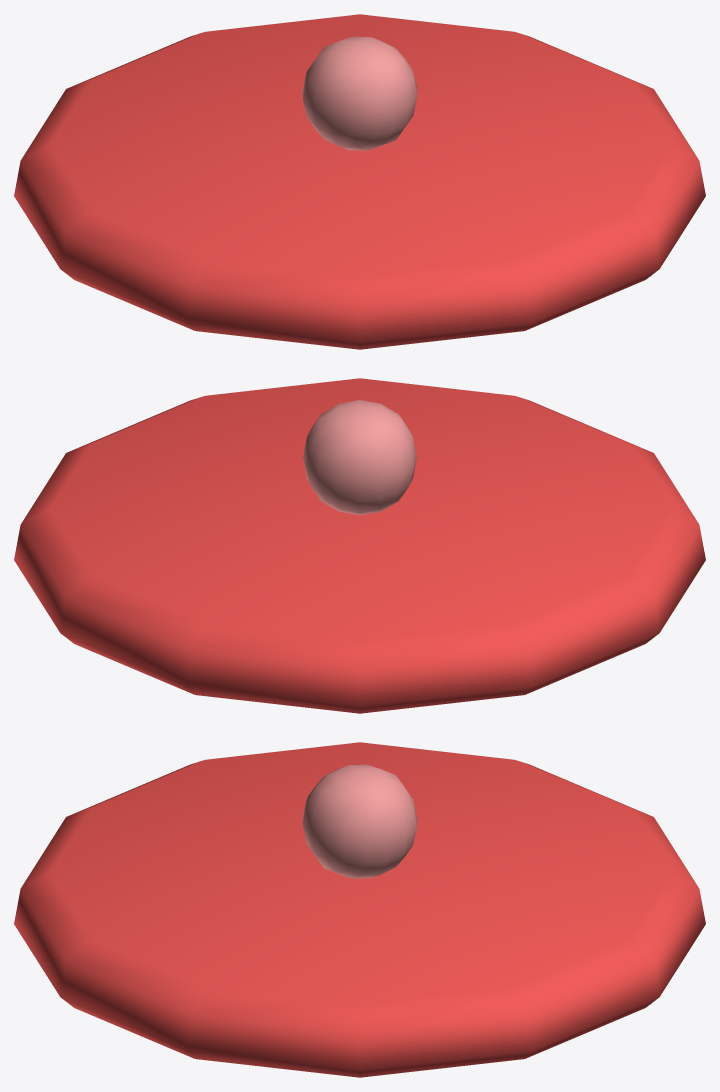
File: Playing_House_Cover.FBX
The picture shows the model from 3 angles, top to bottom: view 1: azimuth 30°, elevation 25°; view 2: azimuth 150°, elevation 25°; view 3: azimuth 270°, elevation 25°; orthographic projection.
Visible parts, largest first — view 1: Playing_House_Cover; view 2: Playing_House_Cover; view 3: Playing_House_Cover.
Boxes of the visible parts, x1,y1,x2,y2 form: Playing_House_Cover: (14, 14, 705, 349); Playing_House_Cover: (14, 378, 705, 713); Playing_House_Cover: (14, 742, 705, 1077).
Size of the model in its own units: 72.85 by 19.54 by 72.85.
